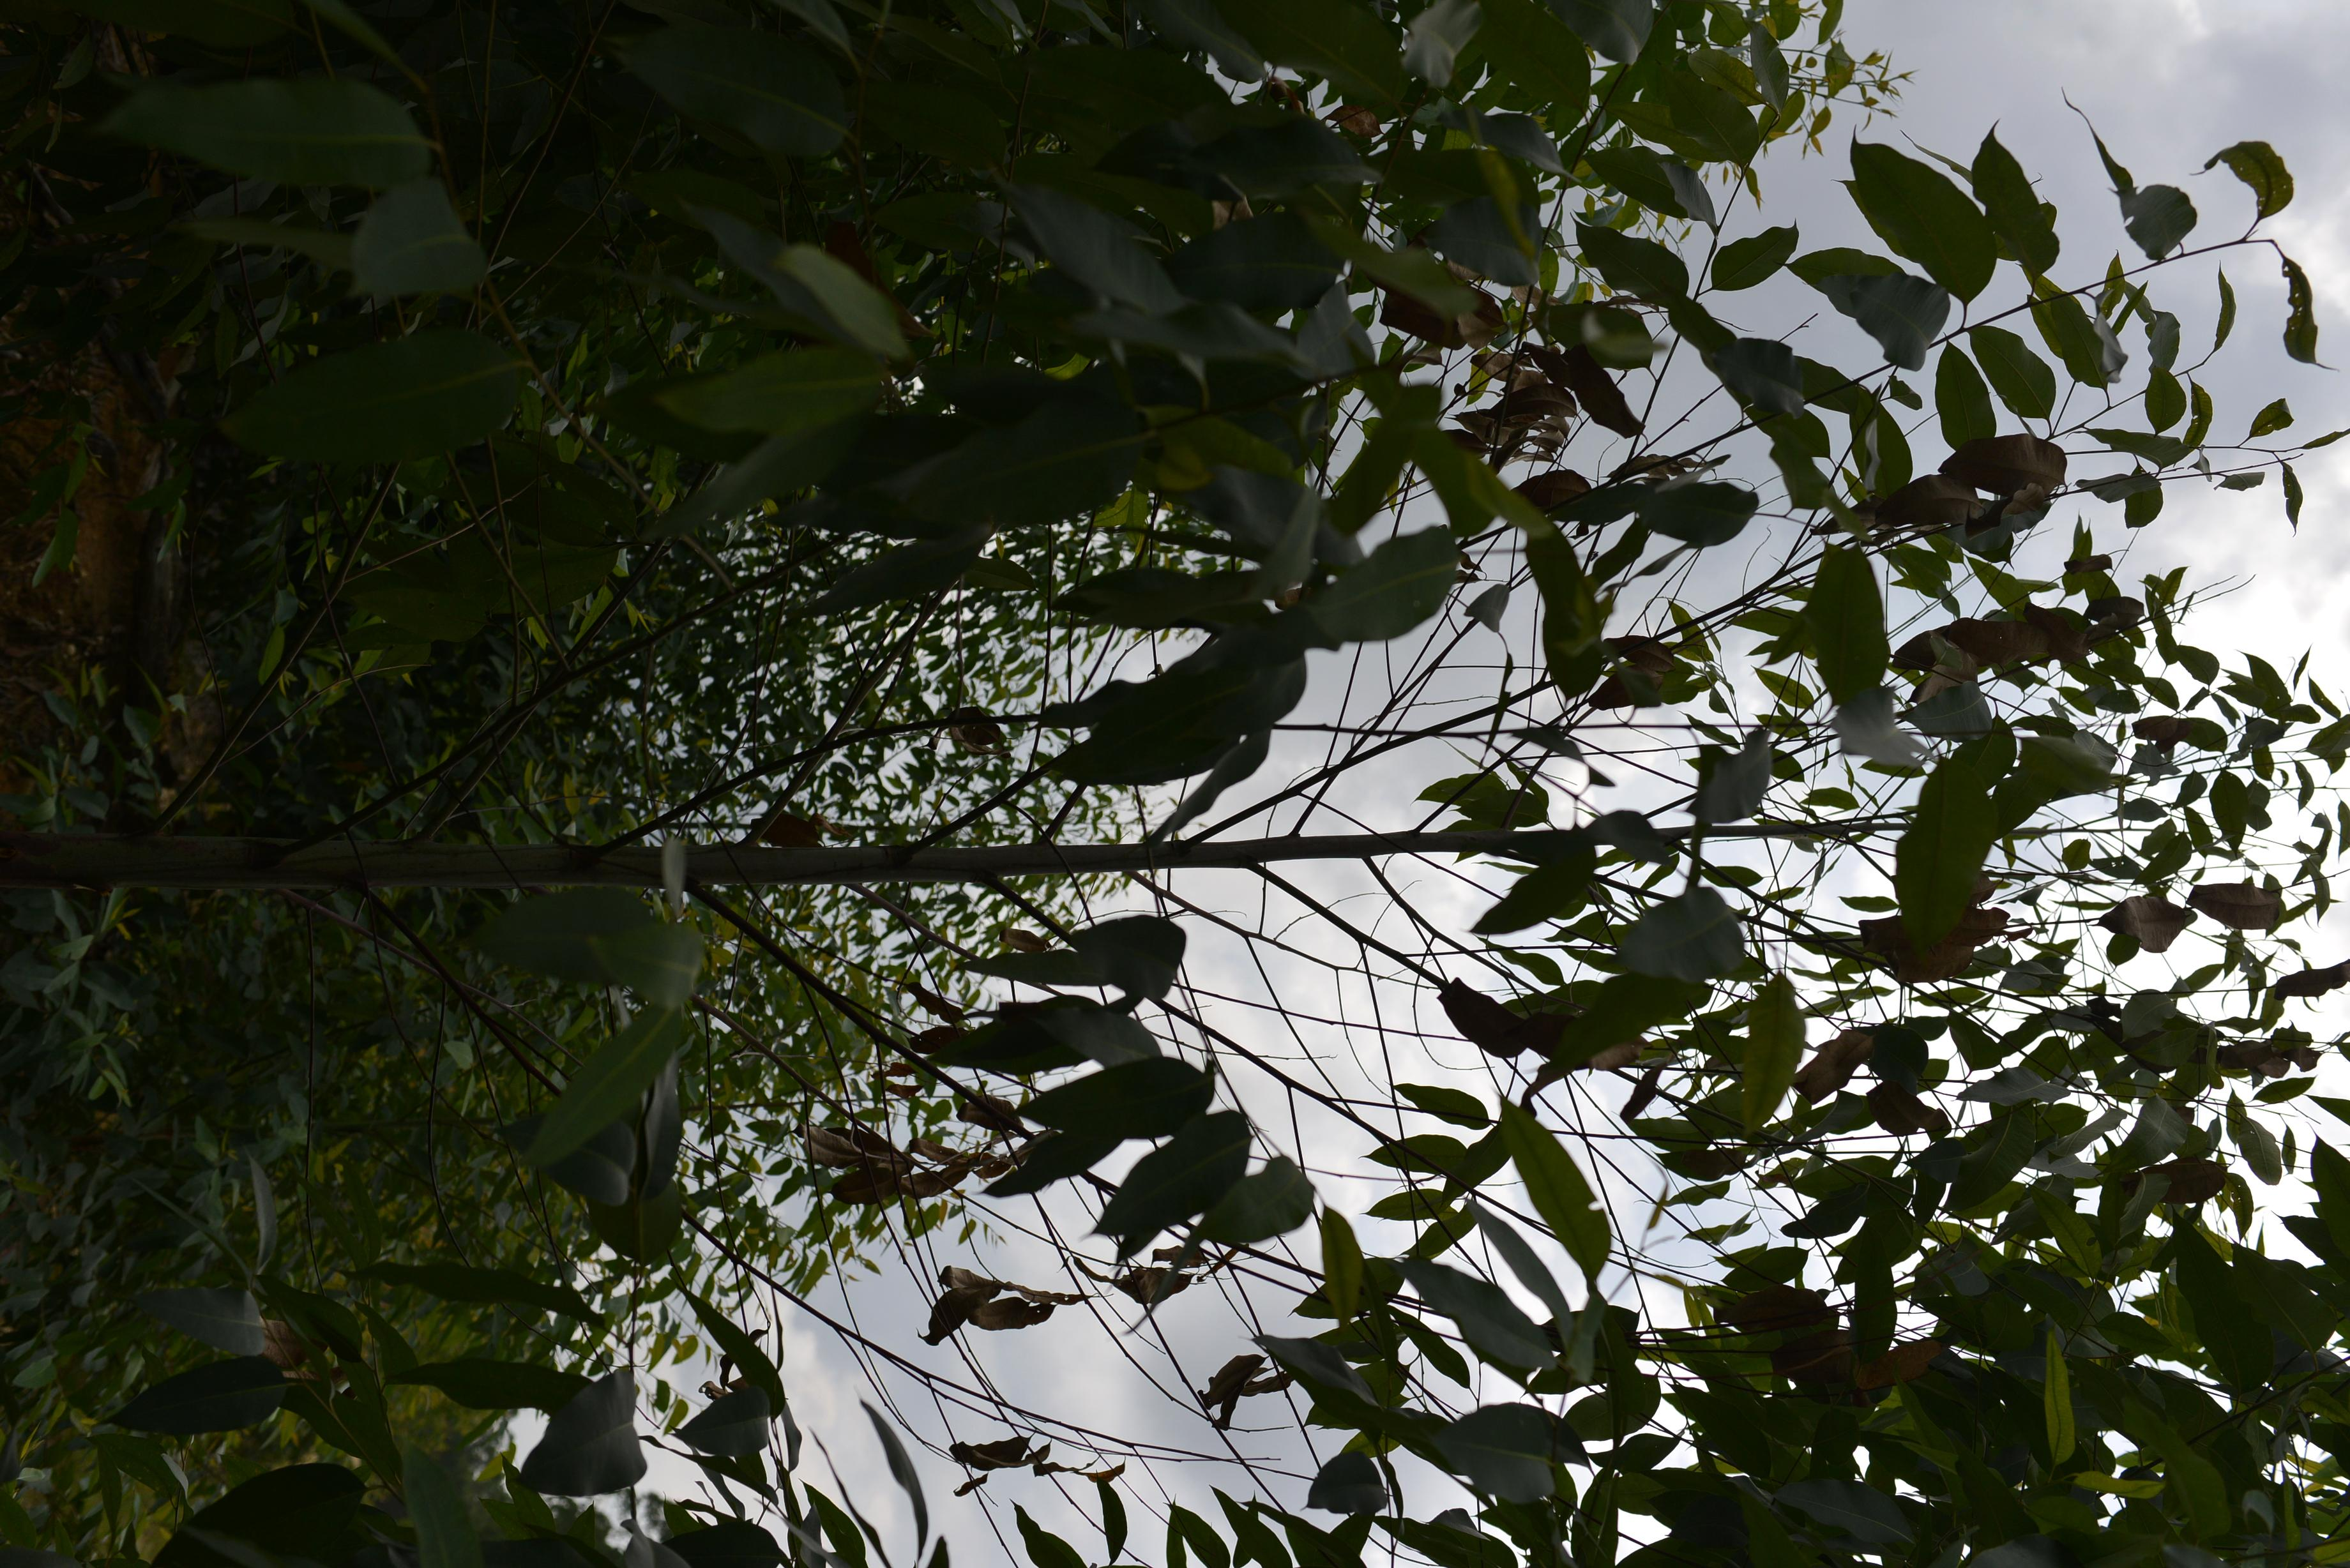Phalopeltis: (808, 1087, 1020, 1227), (1869, 402, 2068, 548), (2095, 878, 2298, 962), (936, 1246, 1074, 1358), (1437, 378, 1603, 467)
